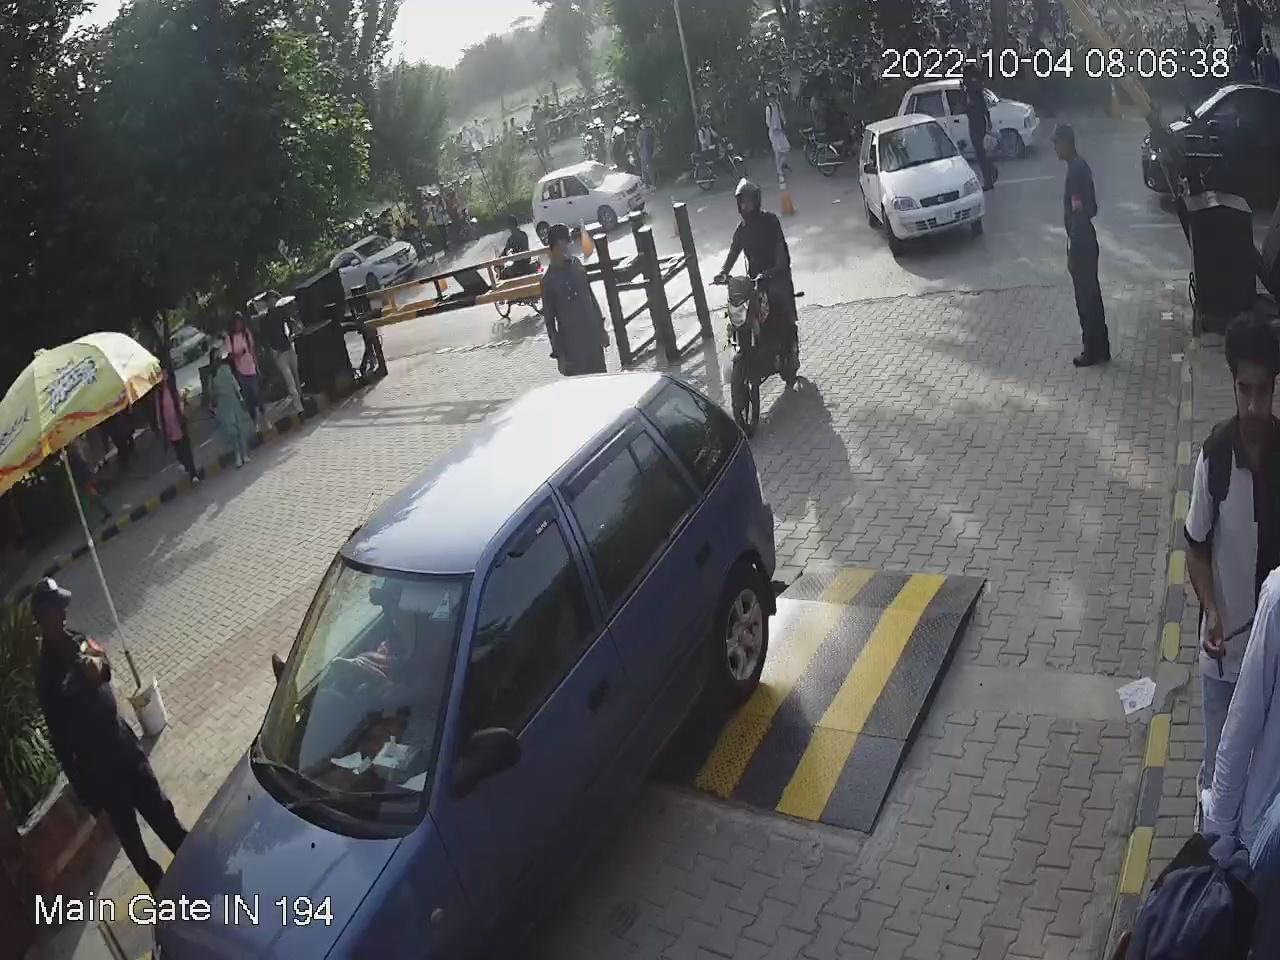windshield: (241, 553, 483, 842)
